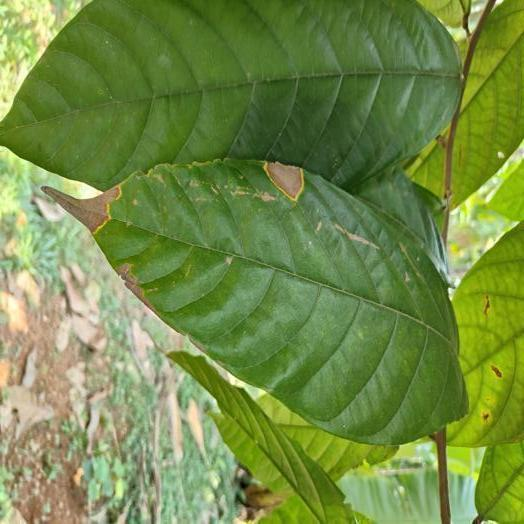Potassium: (50, 160, 467, 443)
